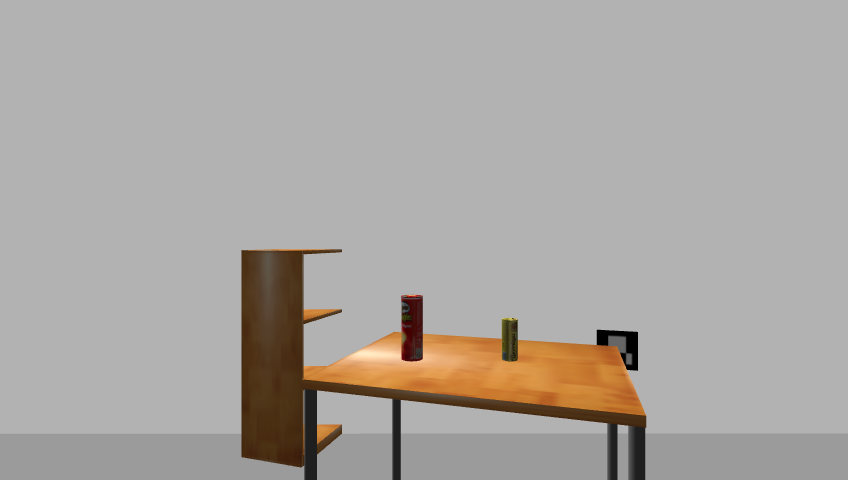aruco marker: (593, 328, 643, 374)
biscuits pack: (501, 317, 520, 363)
bookshelf: (237, 246, 349, 472)
dinner table: (298, 330, 654, 480)
pringles can: (399, 294, 423, 363)
